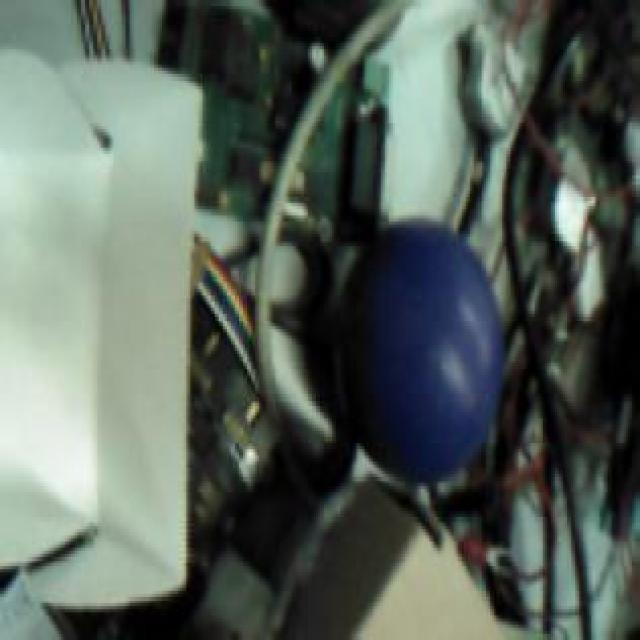BallPurple: (339, 217, 505, 485)
